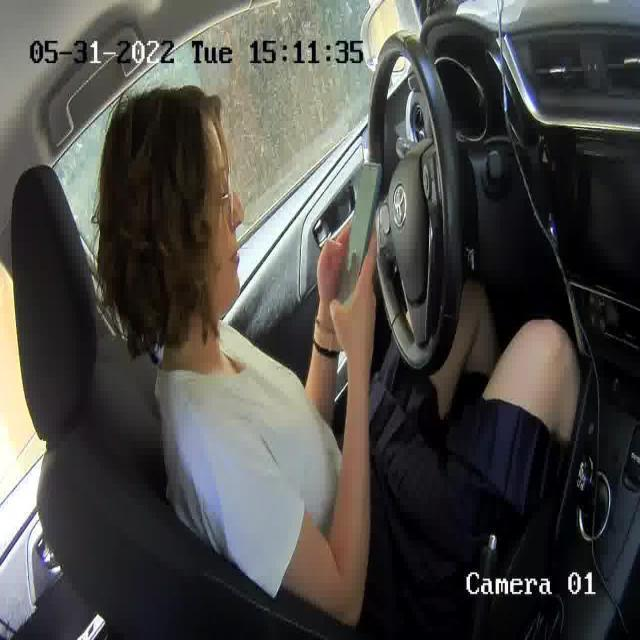Eye-Close: (212, 184, 233, 203)
Inattentive: (99, 84, 243, 318)
Normal: (224, 244, 241, 268)
